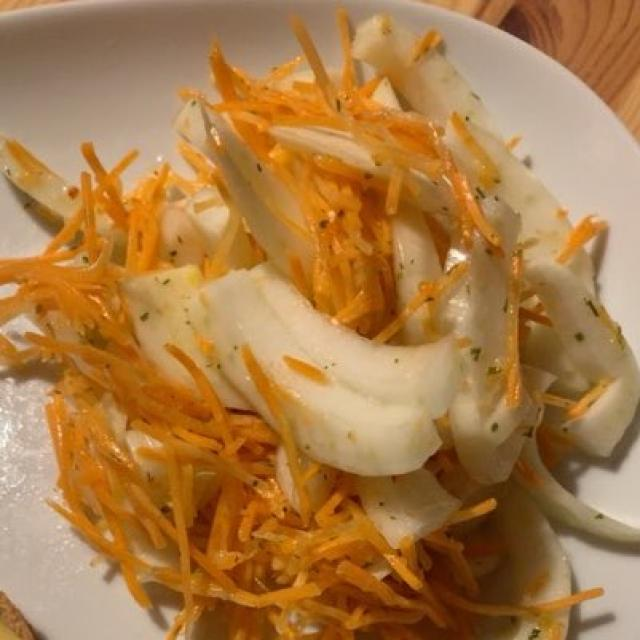carrot-raw: (18, 22, 622, 625)
fennel: (127, 30, 623, 531)
